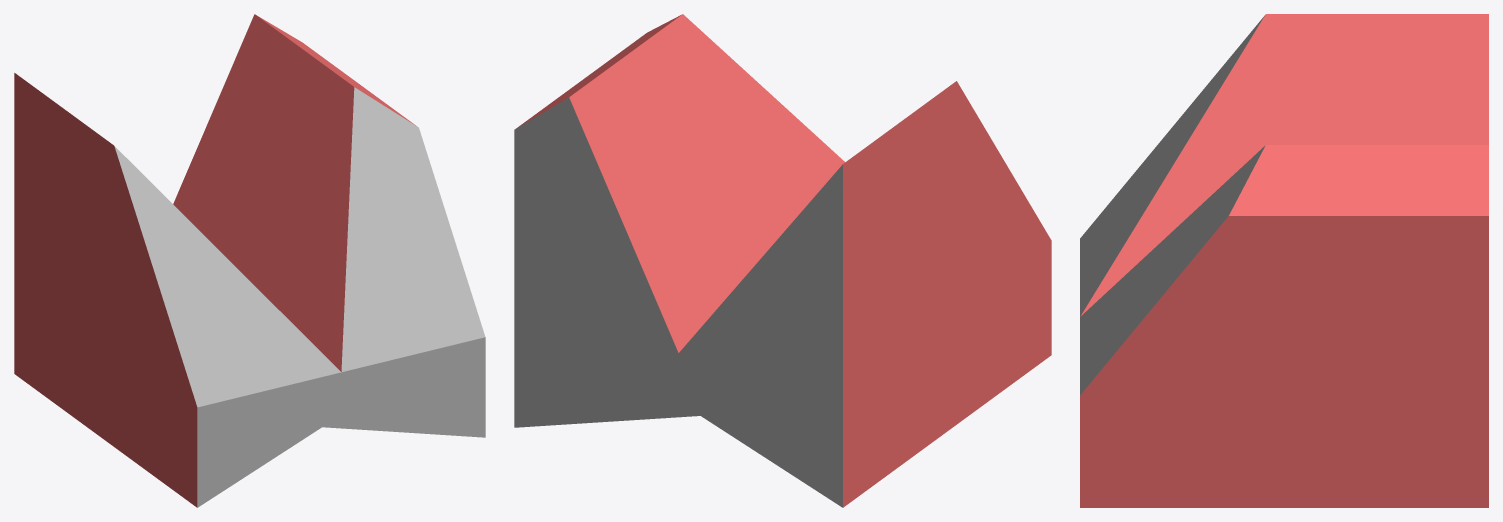
The picture shows the model from 3 angles, left to right: view 1: azimuth 30°, elevation 25°; view 2: azimuth 150°, elevation 25°; view 3: azimuth 270°, elevation 25°; orthographic projection. The views are drawn at different scales.
Visible parts, largest first — view 1: 33-6.SLDPRT; view 2: 33-6.SLDPRT; view 3: 33-6.SLDPRT.
Part boxes in pixels (bbox=[...]): 33-6.SLDPRT: bbox=[14, 14, 485, 507]; 33-6.SLDPRT: bbox=[514, 14, 1051, 507]; 33-6.SLDPRT: bbox=[1080, 14, 1488, 507].
Bounding box in the file's own units: 0.03 × 0.03 × 0.033.
